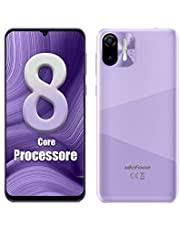Smartphone: (94, 25, 179, 200), (6, 26, 85, 201)
